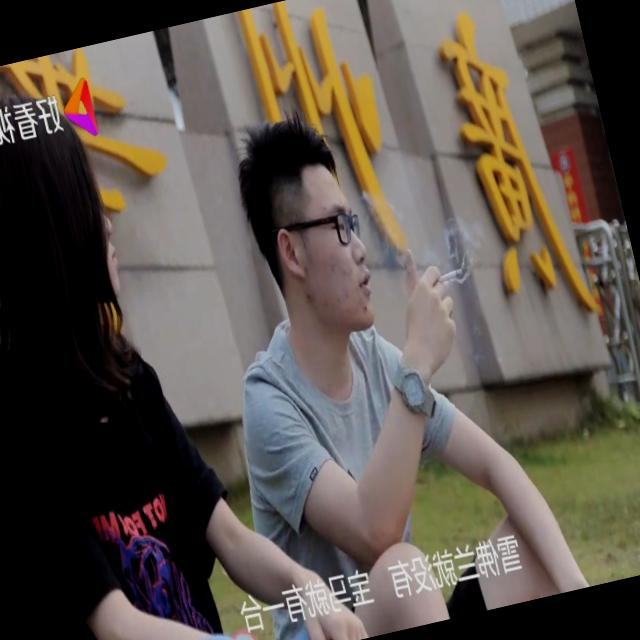smoke: (426, 253, 471, 295)
